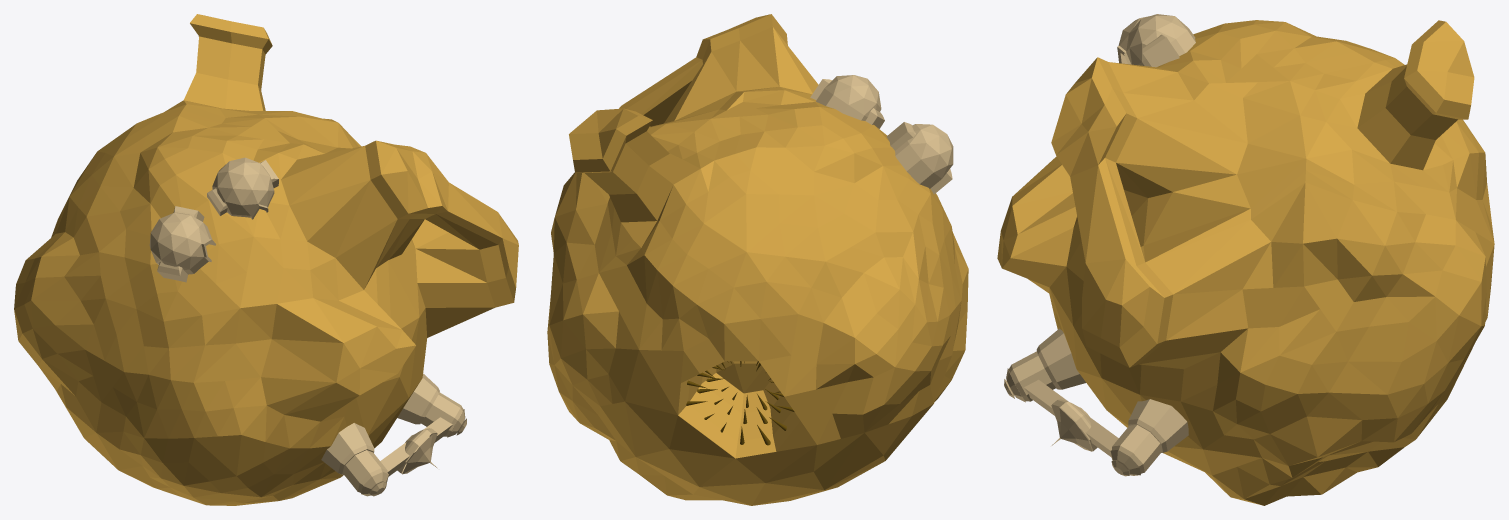
The model's file is tatooine_zoom.dae.
The picture shows the model from 3 angles, left to right: view 1: azimuth 30°, elevation 25°; view 2: azimuth 150°, elevation 25°; view 3: azimuth 270°, elevation 25°; orthographic projection. The views are drawn at different scales.
Parts seen in each view (by area): view 1: Cone; view 2: Cone; view 3: Cone.
Part boxes in pixels (x1=…): Cone: x1=14, y1=14, x2=518, y2=505; Cone: x1=547, y1=14, x2=968, y2=505; Cone: x1=997, y1=14, x2=1494, y2=505.
Size of the model in its own units: 7.09 by 6.7 by 6.97.
